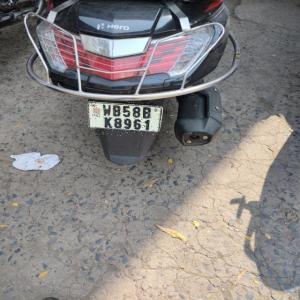Plate: (86, 101, 161, 135)
